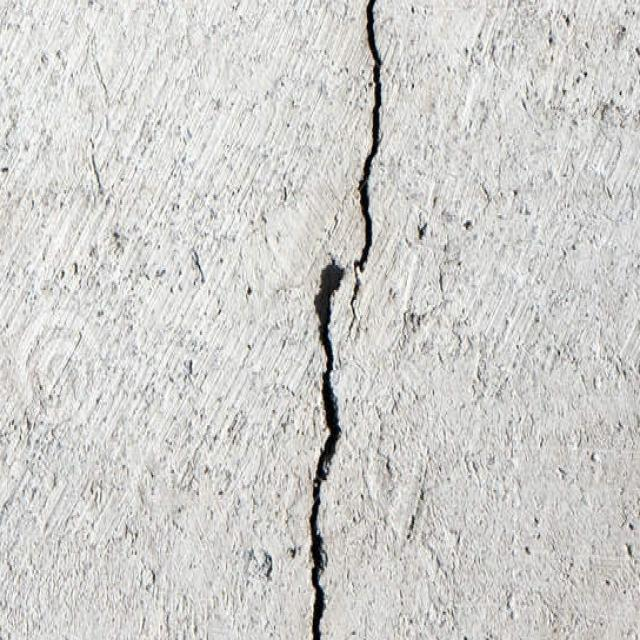crack: (308, 1, 386, 638)
